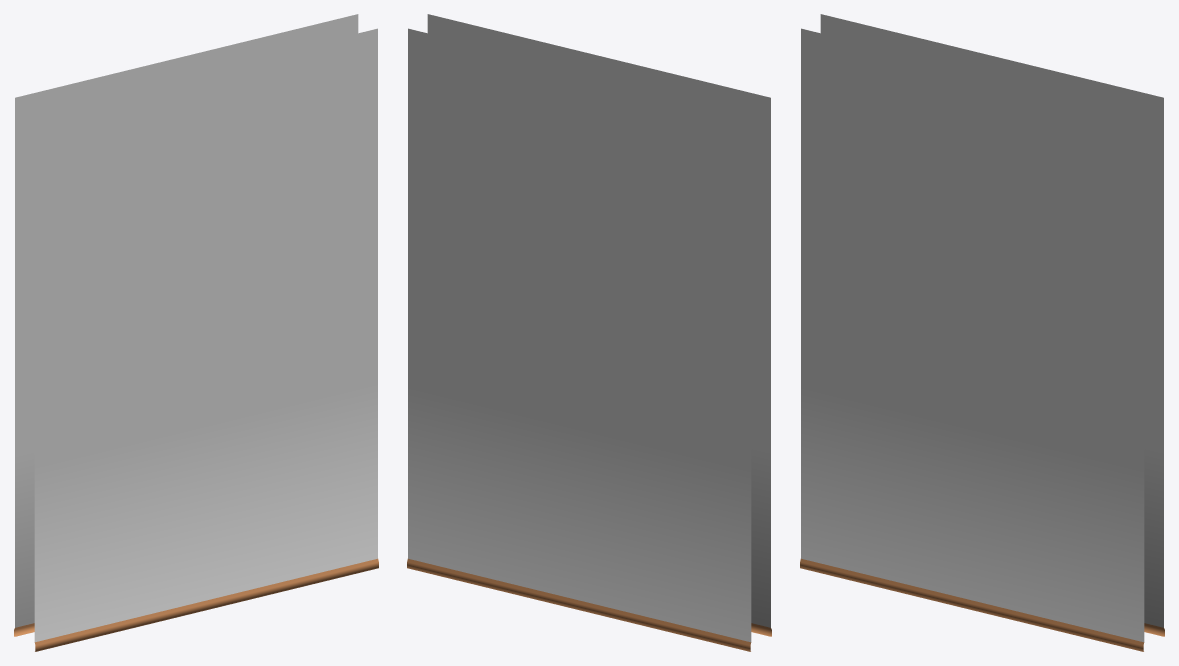
Rendered from wall_MED.fbx.
3 renders of one model, left to right at view 1: azimuth 30°, elevation 25°; view 2: azimuth 150°, elevation 25°; view 3: azimuth 330°, elevation 25°, orthographic.
Parts seen in each view (by area): view 1: Cube.005; view 2: Cube.005; view 3: Cube.005.
Part boxes in pixels (box(x1,y1,x2,y2)): Cube.005: box(14, 14, 378, 651); Cube.005: box(407, 14, 771, 651); Cube.005: box(800, 14, 1164, 651).
Size of the model in its own units: 400 by 600 by 43.2.
